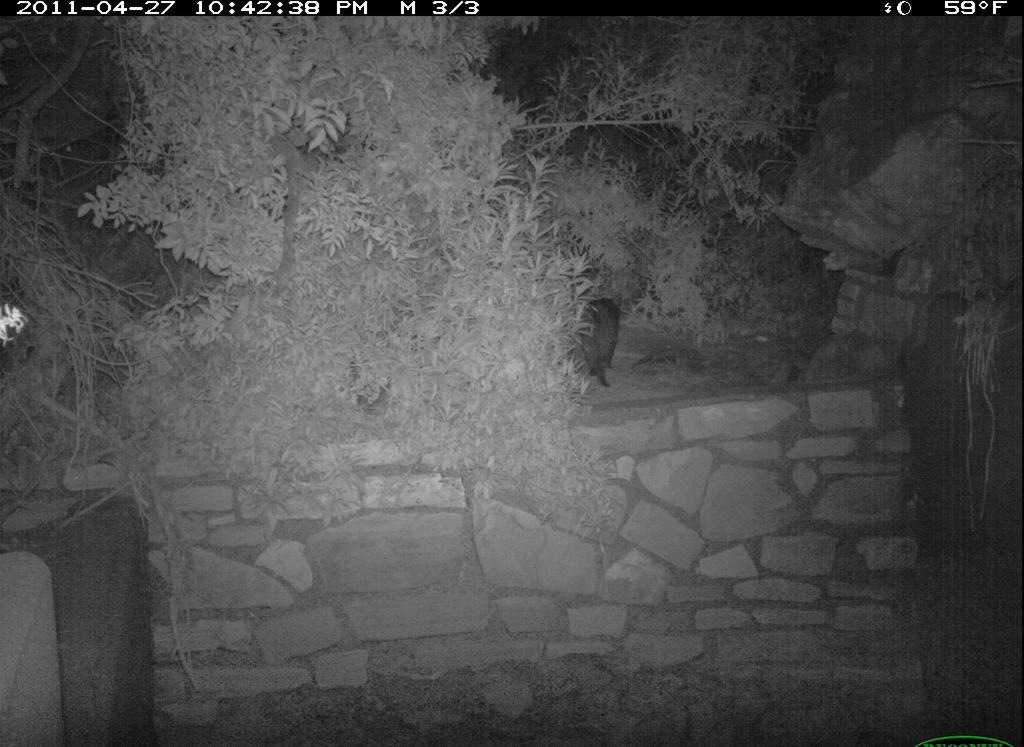cat: (577, 278, 657, 399)
